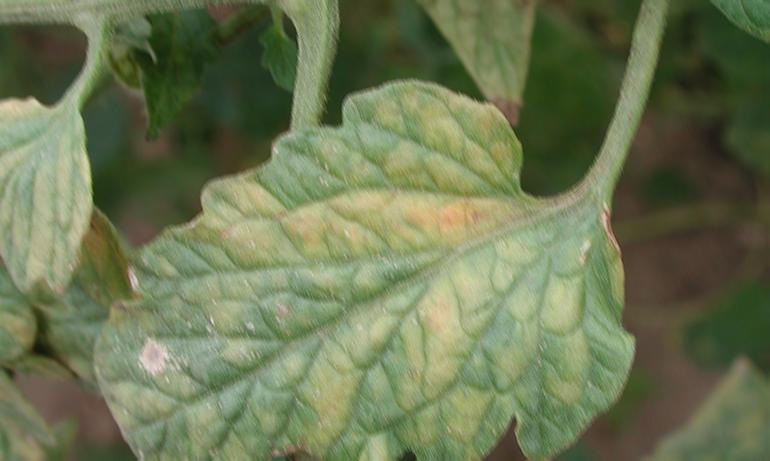Tomato mold leaf: (81, 81, 640, 461), (0, 96, 105, 320)
